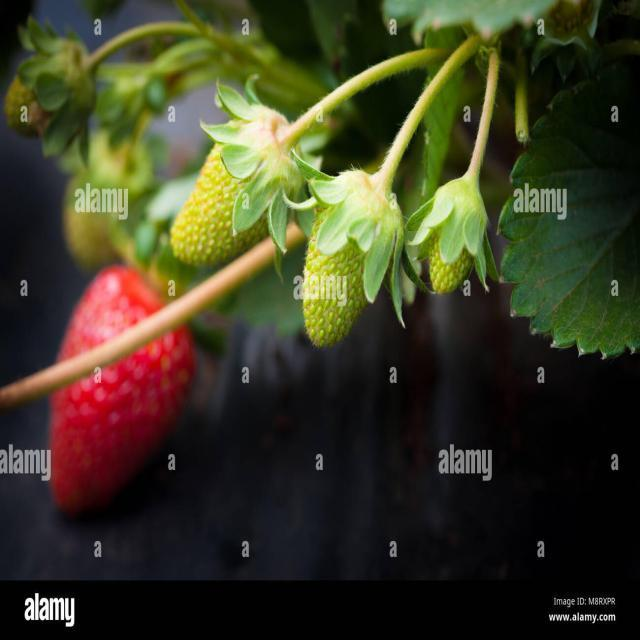ripe: (51, 266, 198, 512)
unripe: (170, 108, 298, 272), (303, 168, 402, 348), (3, 39, 92, 142), (429, 180, 486, 294)
